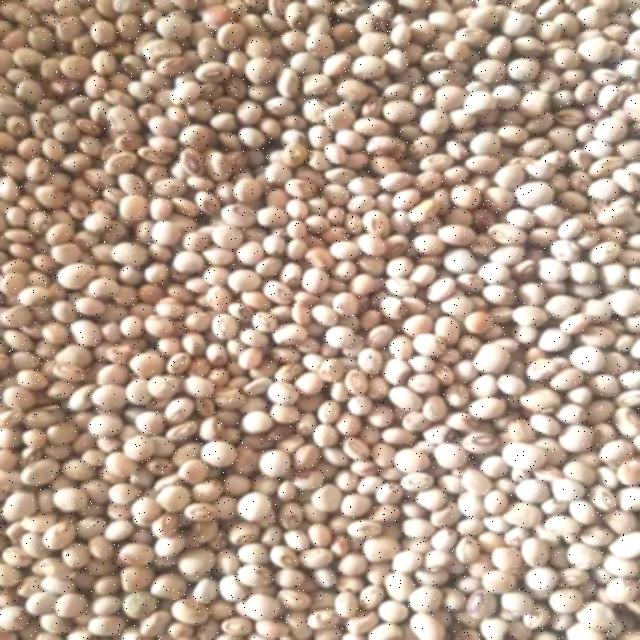NA: (31, 59, 632, 532)
